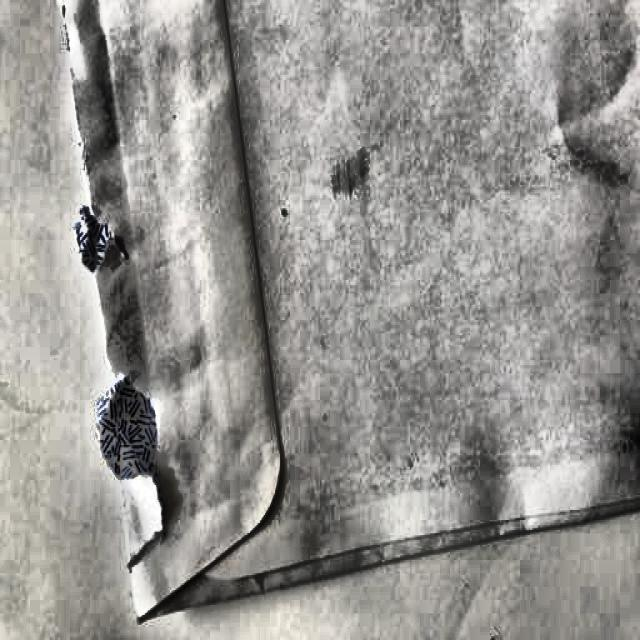paper: (53, 4, 634, 628)
